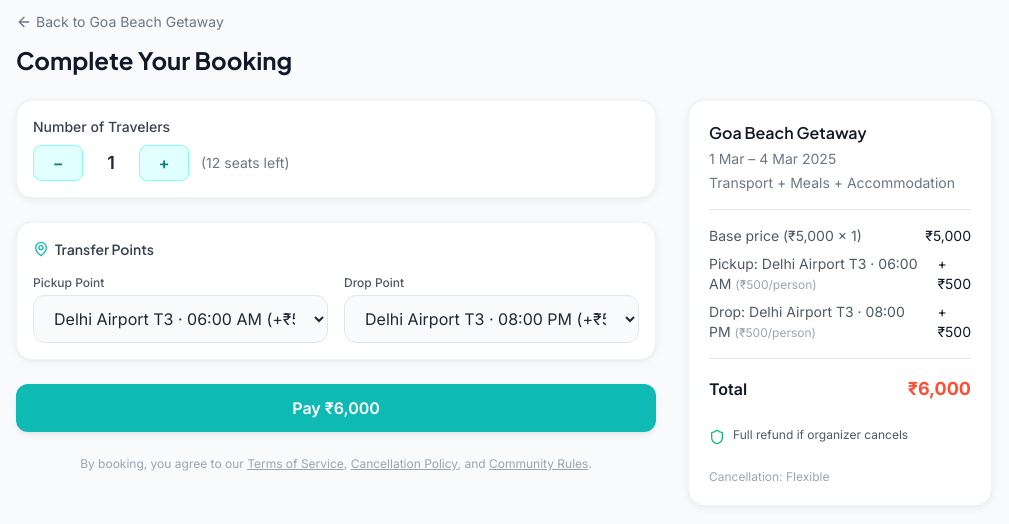
Test case: BookingPage › should update price when traveler count changes
Expected: the text "Total" is shown, [709, 377, 747, 401]
Expected: the text "Total" shows "₹6,000", [908, 378, 971, 399]
Click the button named "increase" at [164, 163], box [139, 145, 189, 181]
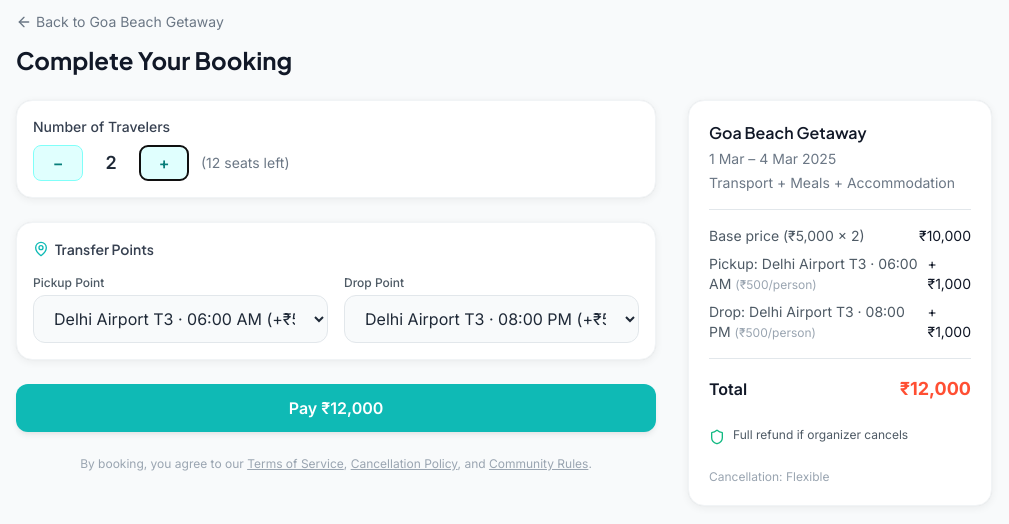
Now the text "Total" shows "₹12,000", box [900, 378, 971, 399]
